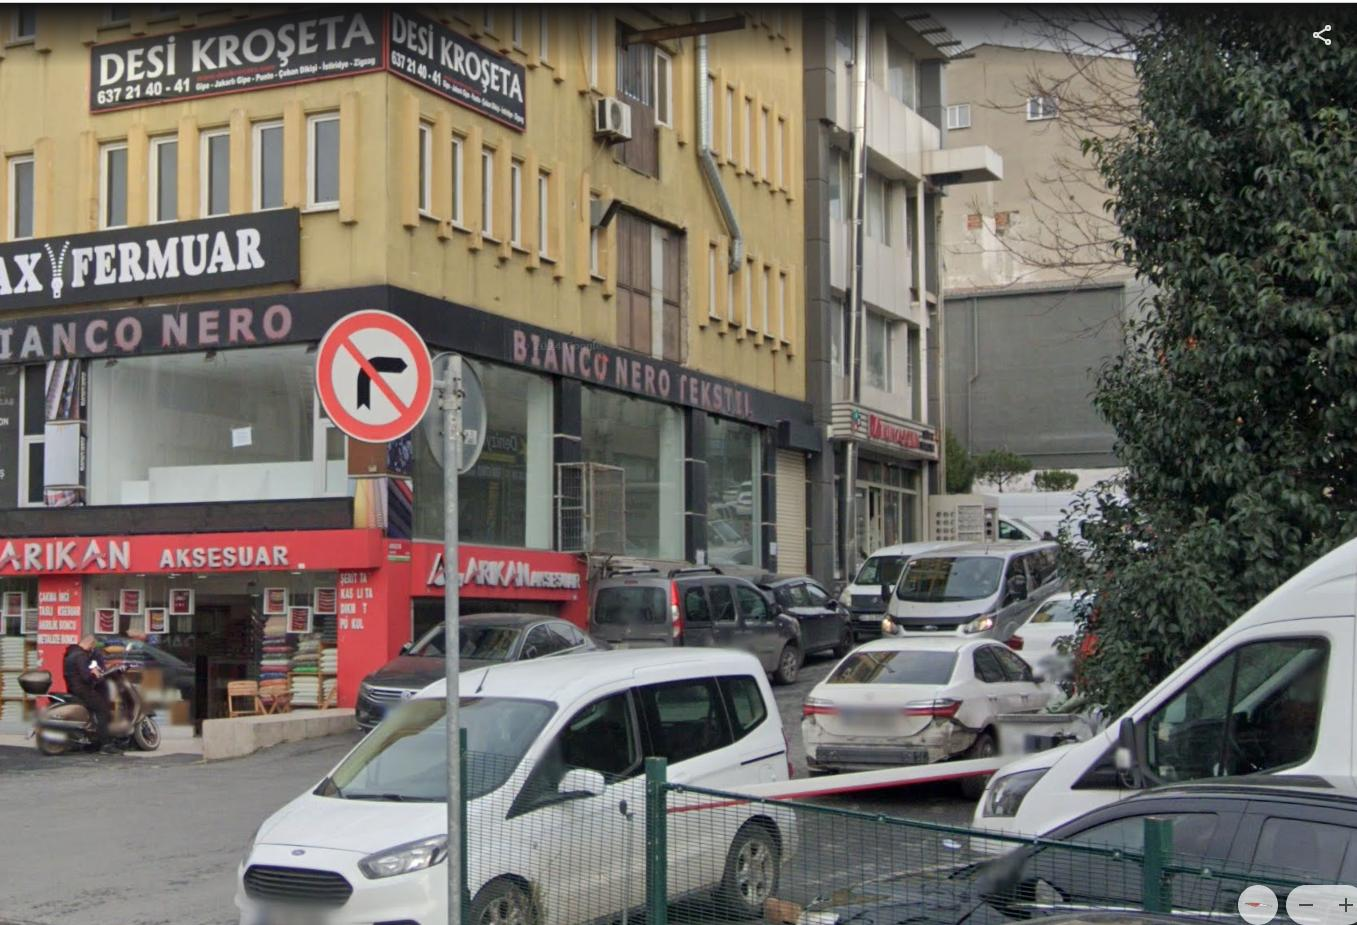rightturnsareforbidden: (303, 302, 451, 458)
